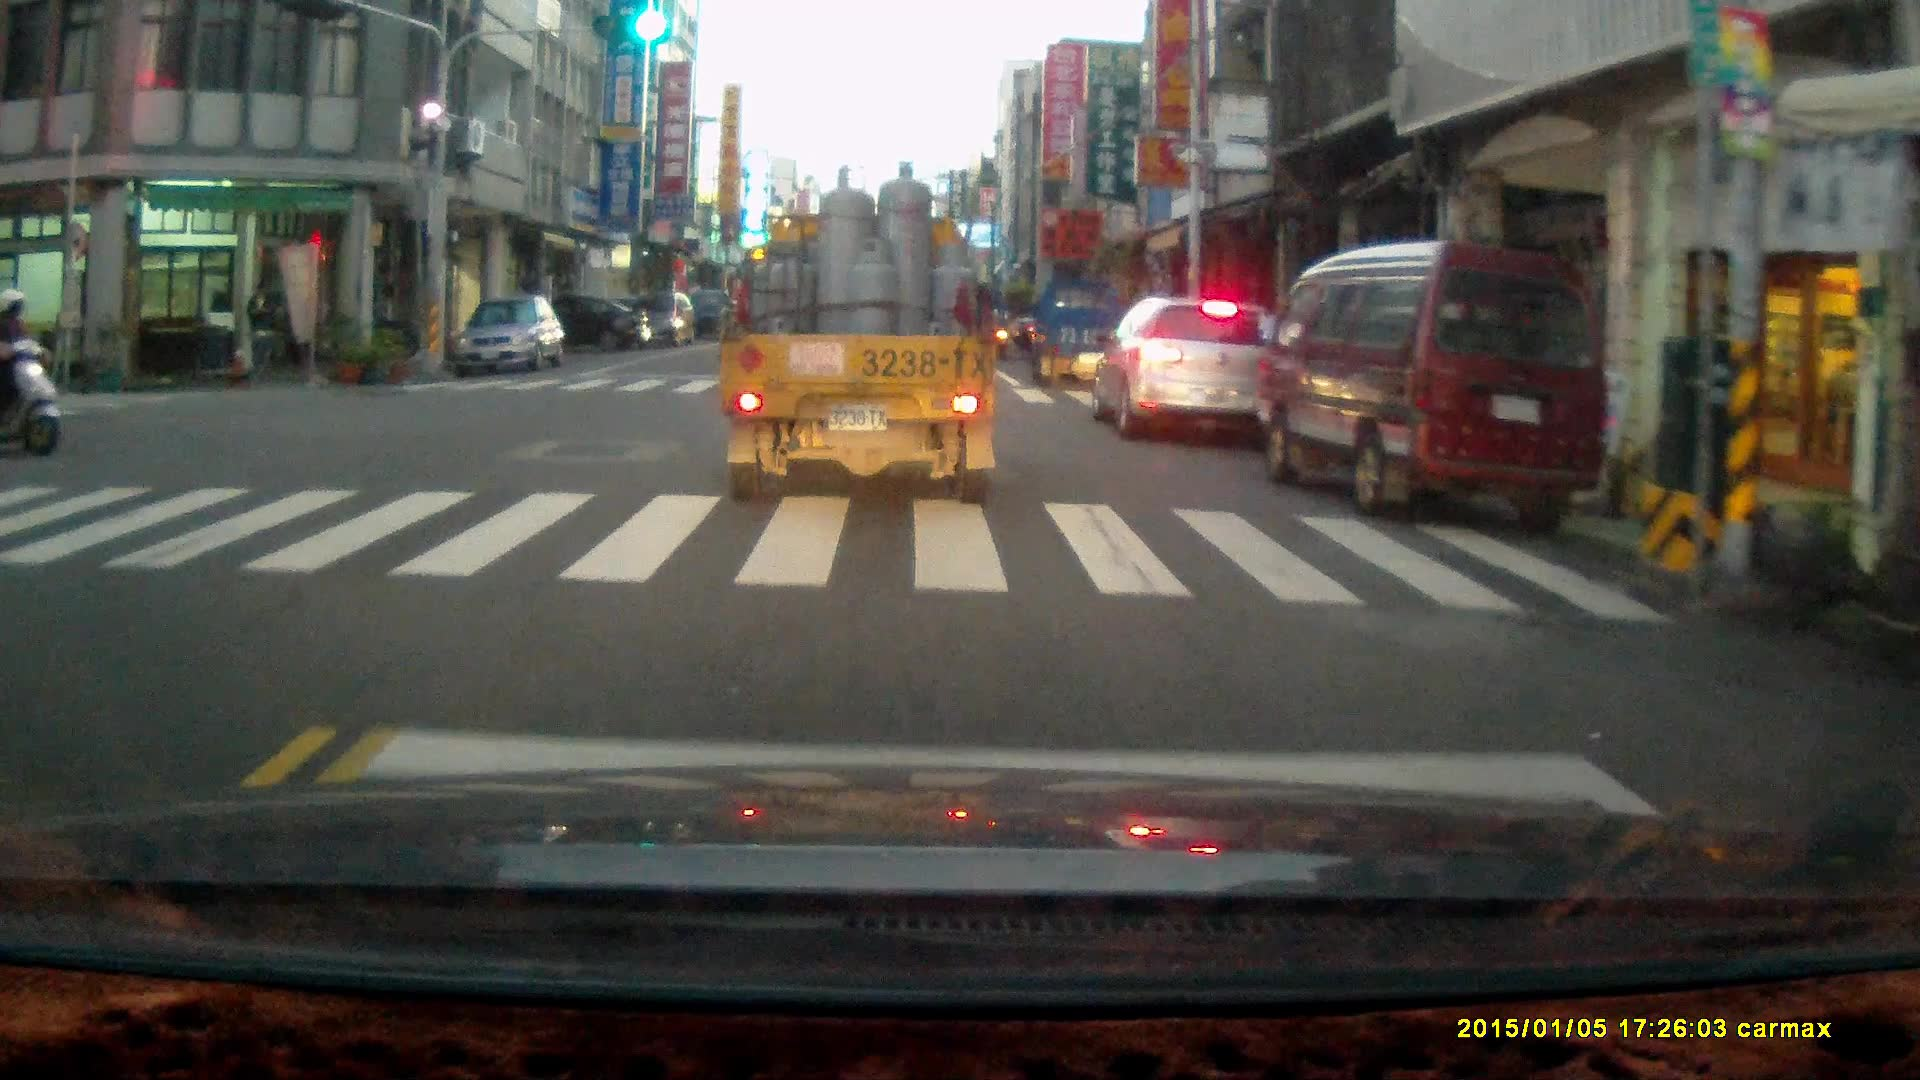pedestrian: (243, 275, 277, 385)
rider: (0, 285, 60, 458)
vehicle: (1261, 240, 1607, 530), (723, 162, 998, 514), (1091, 289, 1289, 451), (1032, 275, 1141, 396), (501, 296, 646, 360), (457, 298, 568, 380), (604, 291, 695, 347)
